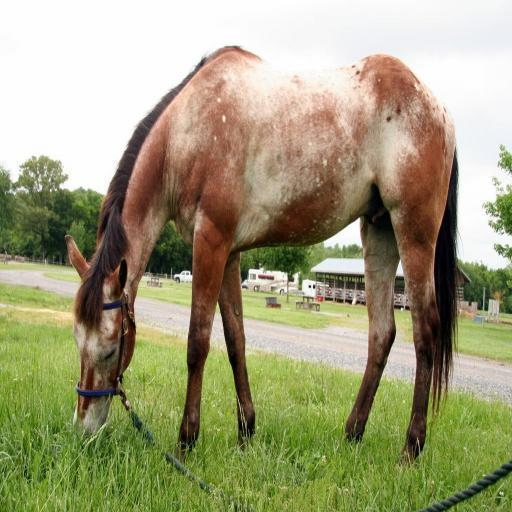horse: (69, 40, 465, 454)
